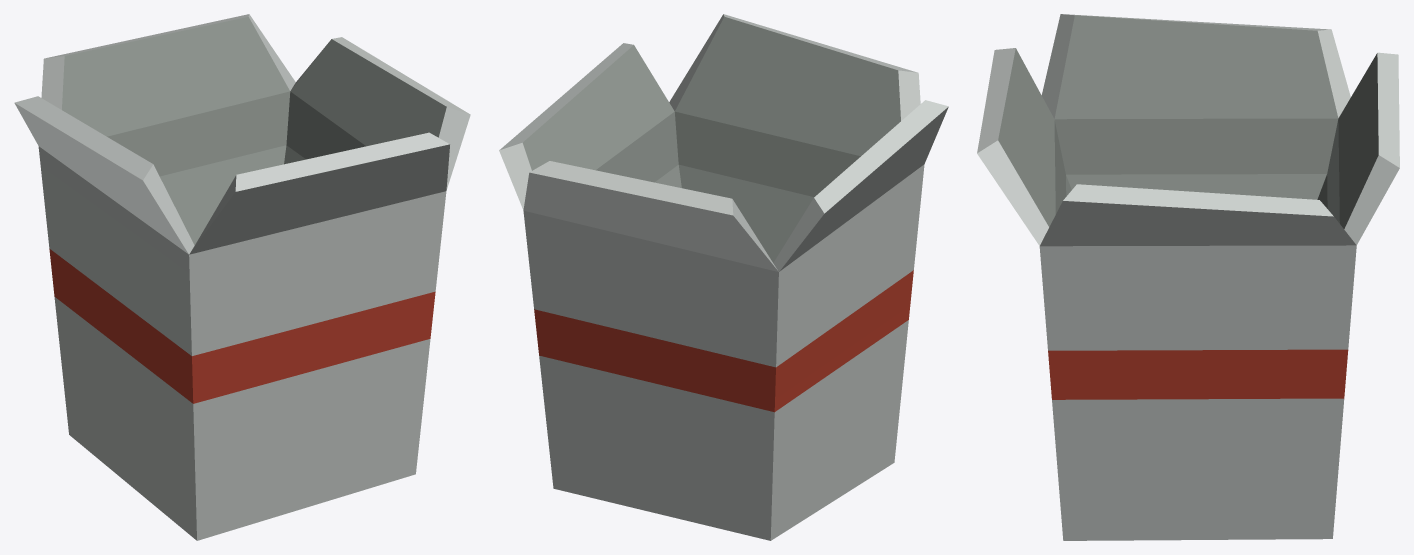
File: SM_Prop_Noodle_Box_01.fbx
3 renders of one model, left to right at view 1: azimuth 30°, elevation 25°; view 2: azimuth 150°, elevation 25°; view 3: azimuth 270°, elevation 25°, orthographic. The views are drawn at different scales.
Parts seen in each view (by area): view 1: SM_Prop_Noodle_Box_01; view 2: SM_Prop_Noodle_Box_01; view 3: SM_Prop_Noodle_Box_01.
Boxes of the visible parts, box(x1,y1,x2,y2) form: SM_Prop_Noodle_Box_01: box(14, 14, 470, 540); SM_Prop_Noodle_Box_01: box(499, 14, 948, 540); SM_Prop_Noodle_Box_01: box(977, 14, 1399, 540).
Bounding box in the file's own units: 18.63 × 20.56 × 19.43.
